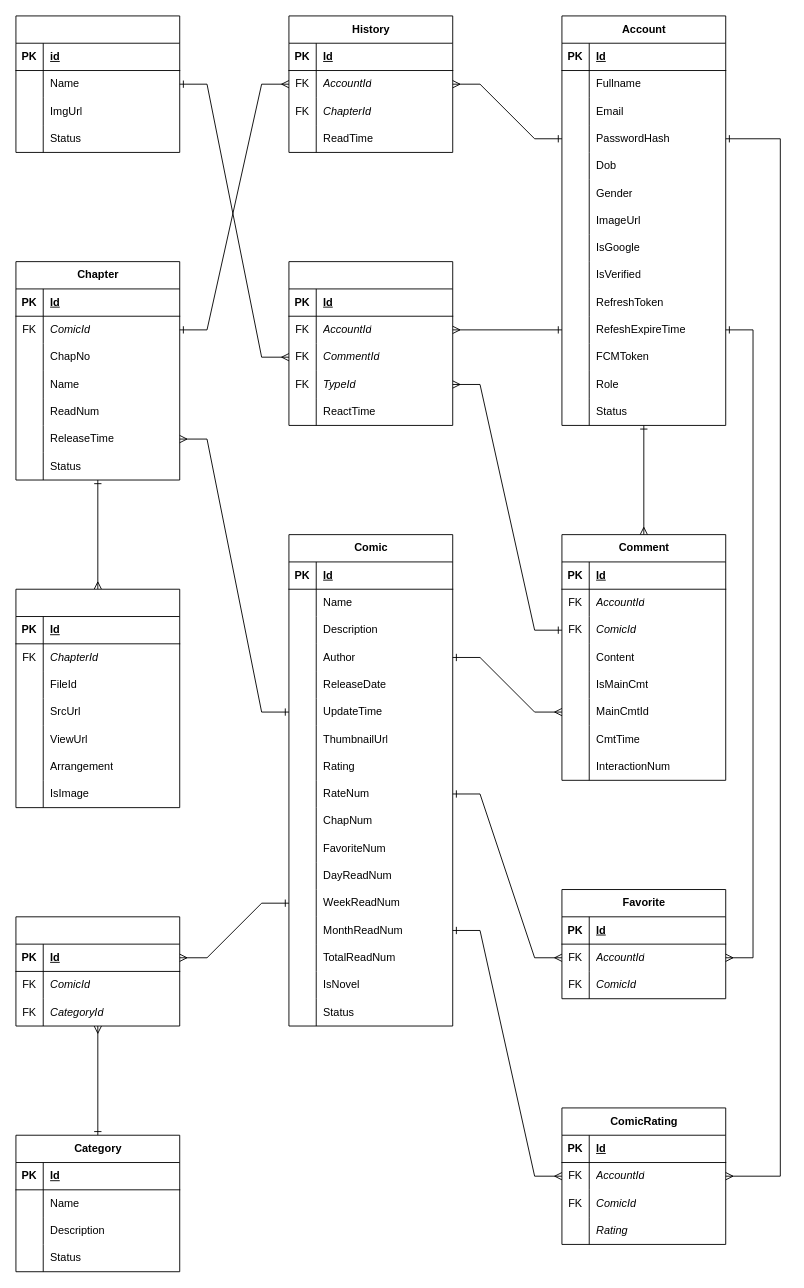
The diagram is 804 pixels wide and 1288 high, and some of its shapes have lost their labels. The box of each missing label's shape, as (x1, y1, x2, y2) in pixels:
ChapterSource: (15, 588, 180, 808)
ComicCategory: (15, 916, 180, 1026)
Interaction: (288, 261, 453, 425)
InteractionType: (15, 15, 180, 152)
